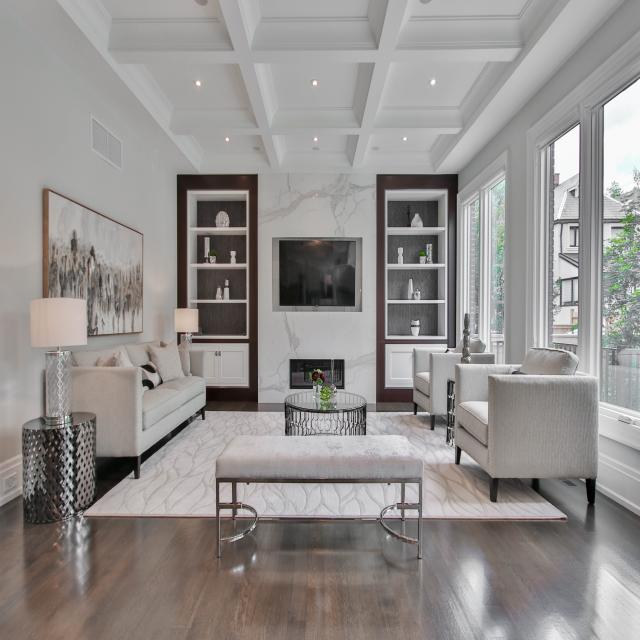floor: (0, 478, 640, 640), (140, 408, 202, 466), (93, 456, 135, 503), (204, 401, 285, 412), (366, 403, 414, 412), (417, 404, 427, 412)
wall: (458, 0, 640, 365), (258, 173, 458, 403), (192, 173, 258, 402), (177, 173, 258, 309), (387, 304, 438, 336), (197, 303, 246, 336), (388, 269, 438, 300), (197, 269, 247, 300), (387, 235, 438, 264), (197, 235, 247, 263), (388, 201, 438, 227), (197, 201, 246, 227), (189, 194, 197, 227), (189, 267, 197, 300), (189, 231, 197, 263), (438, 193, 445, 227), (438, 303, 445, 336), (438, 267, 445, 300), (438, 230, 445, 263), (190, 303, 197, 309)
